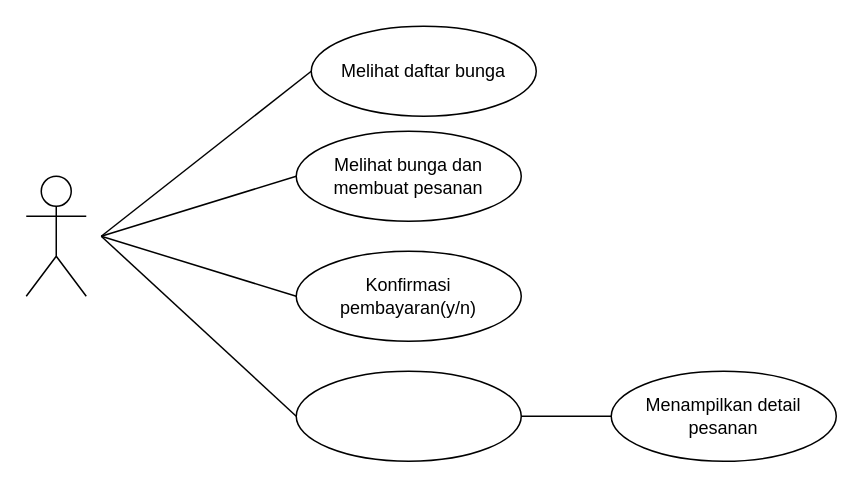
Image size: 863x488. Some labels were removed from this diagram. The shapes that lost their labels are listed below. From the top down, each one's centre as x and y in pixels, then its label:
At point 55,235: "Actor".
At point 408,415: "Melakukan pembayran".
